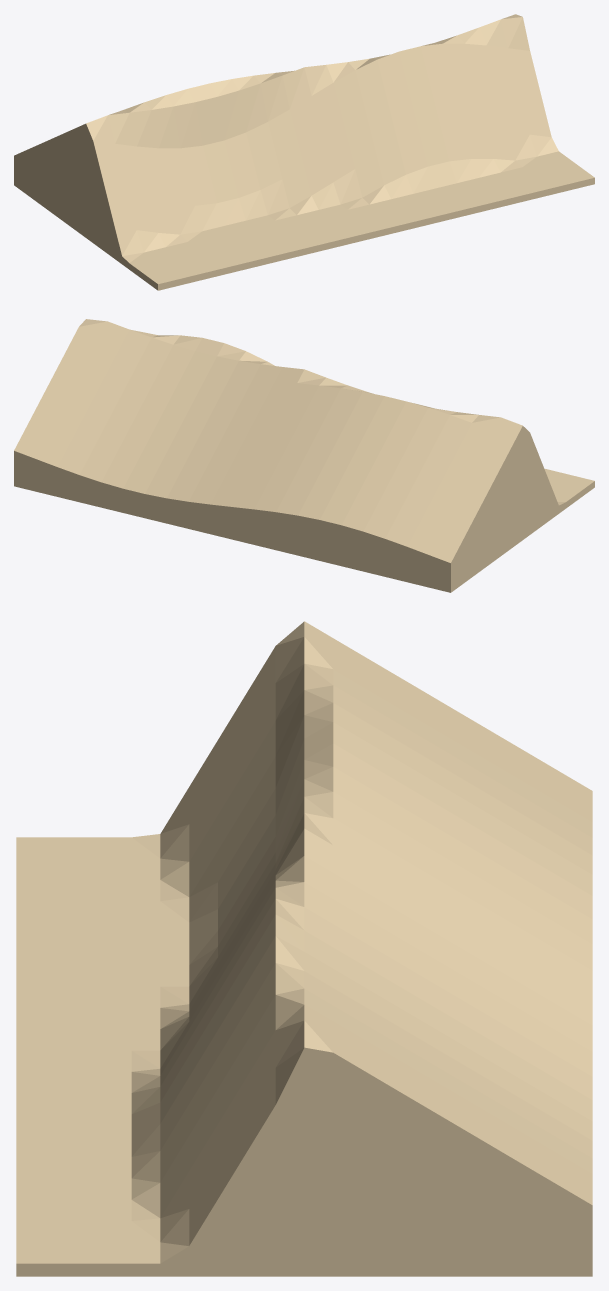
File: desert-canyons-and-oases-dune-crest-04d16461__20956.glb
3 views of the same model, one above another, from view 1: azimuth 30°, elevation 25°; view 2: azimuth 150°, elevation 25°; view 3: azimuth 270°, elevation 25° (orthographic). The views are drawn at different scales.
Visible parts, largest first — view 1: dune-crest; view 2: dune-crest; view 3: dune-crest.
Boxes of the visible parts, x1,y1,x2,y2 form: dune-crest: (14, 14, 594, 290); dune-crest: (14, 319, 594, 592); dune-crest: (16, 621, 592, 1276).
Bounding box in the file's own units: 7 × 1.8 × 4.
